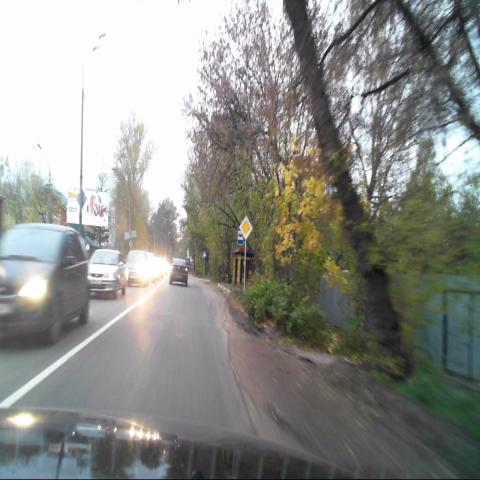2_1: (239, 215, 253, 240)
